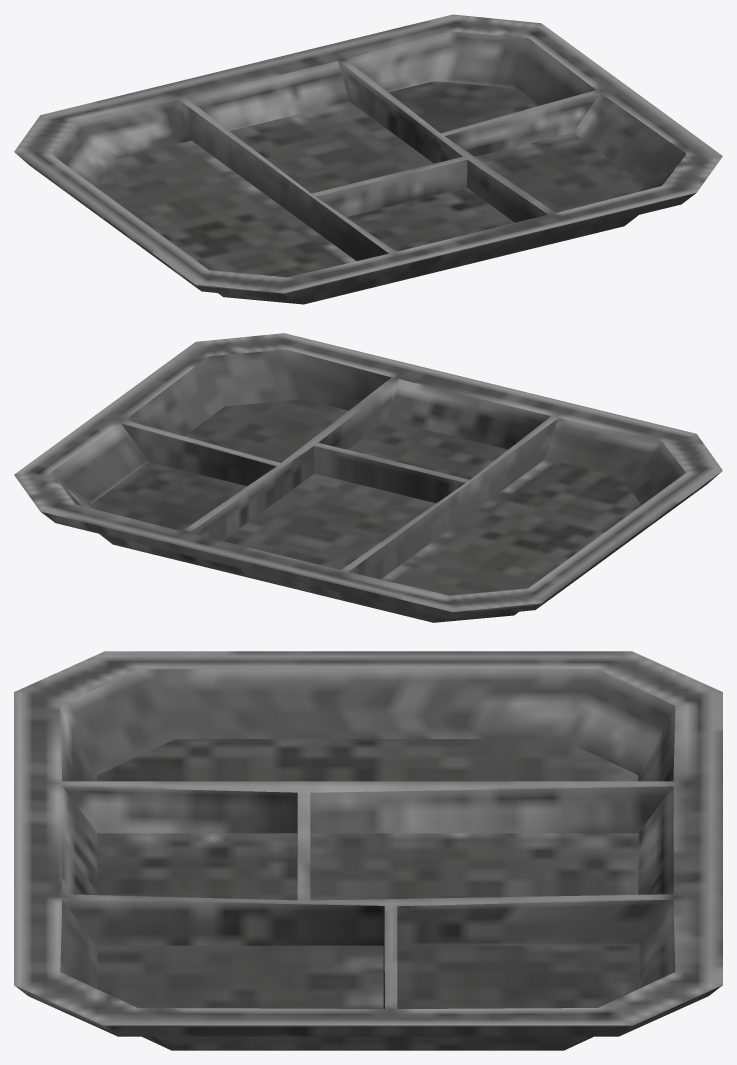
File: tray.fbx
The picture shows the model from 3 angles, top to bottom: view 1: azimuth 30°, elevation 25°; view 2: azimuth 150°, elevation 25°; view 3: azimuth 270°, elevation 25°; orthographic projection. The views are drawn at different scales.
Parts seen in each view (by area): view 1: tray; view 2: tray; view 3: tray.
Part boxes in pixels (bbox=[...]): tray: bbox=[14, 14, 722, 304]; tray: bbox=[14, 333, 722, 622]; tray: bbox=[14, 651, 722, 1050].
Bounding box in the file's own units: 58.35 × 4.41 × 46.71.
1 material, 1 textured.
